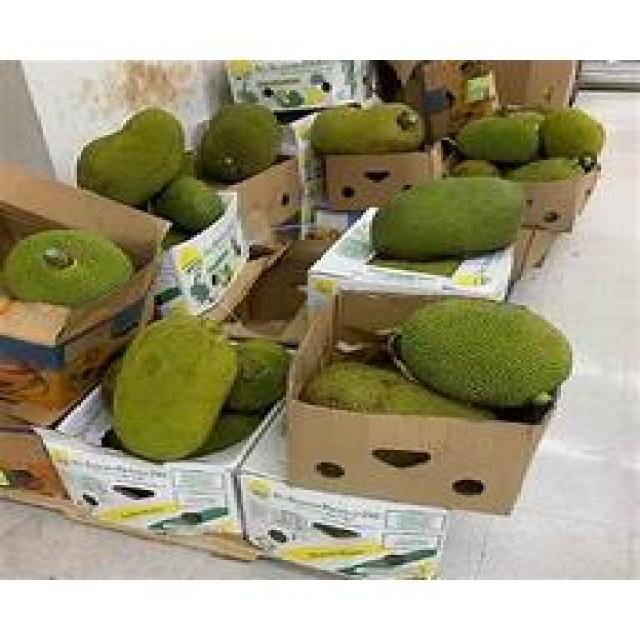Fruit: (363, 265, 591, 430), (80, 282, 265, 482)
